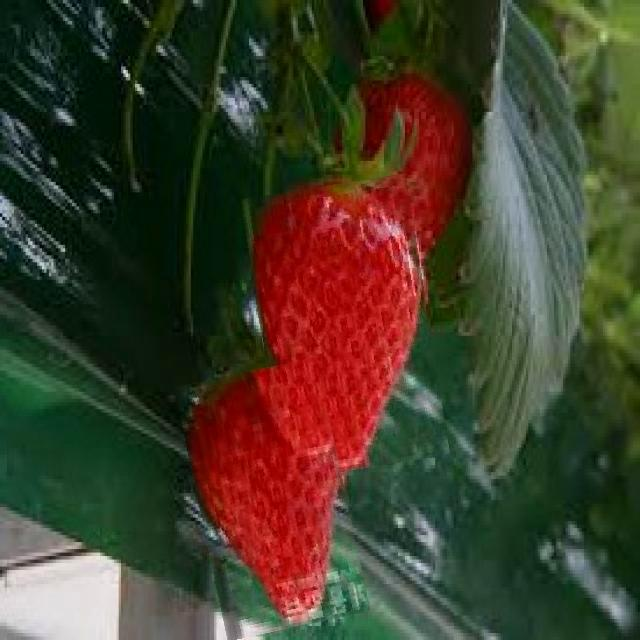strawberry: (251, 180, 440, 476), (186, 364, 358, 636)
